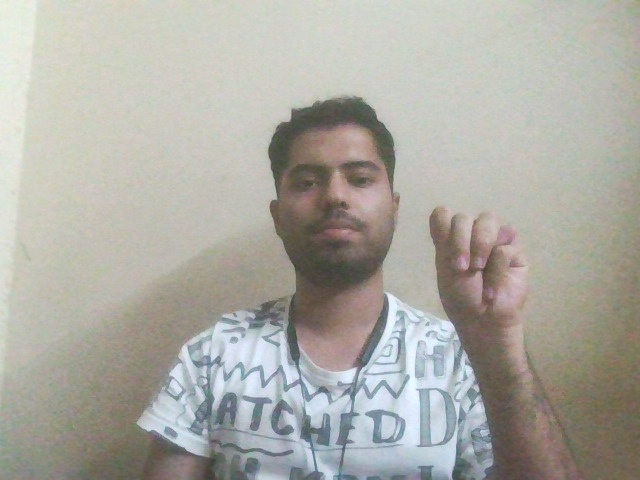O: (414, 186, 559, 332)
